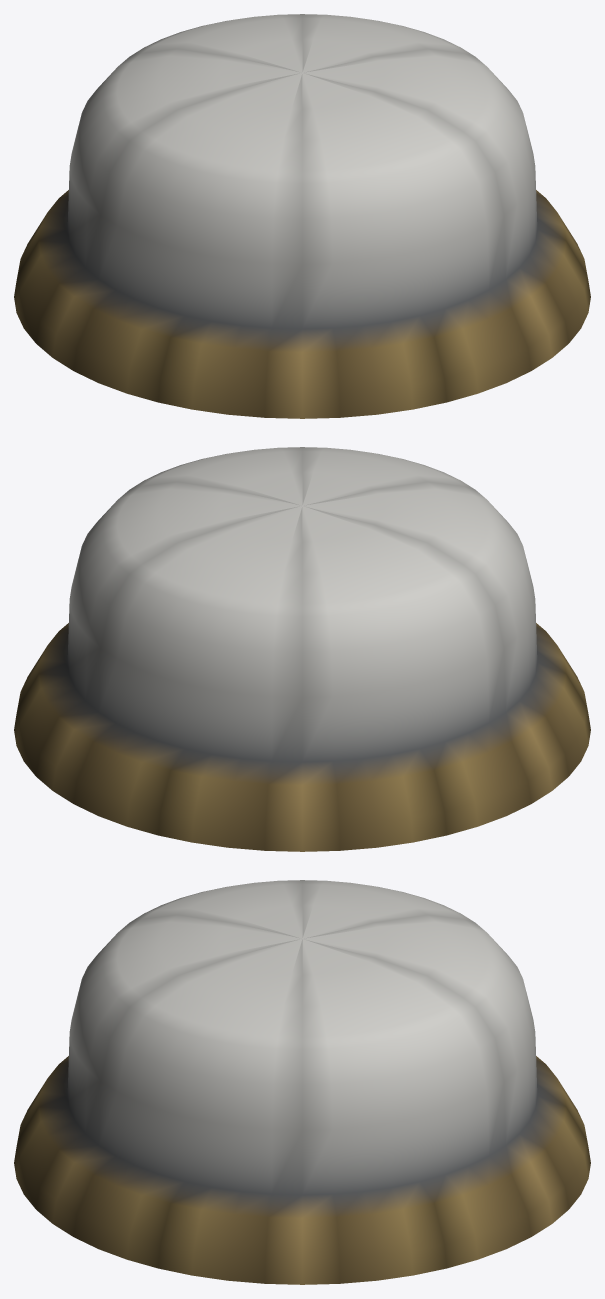
File: seis-shield.glb
3 views of the same model, one above another, from view 1: azimuth 30°, elevation 25°; view 2: azimuth 150°, elevation 25°; view 3: azimuth 270°, elevation 25° (orthographic).
Visible parts, largest first — view 1: cover-seis-shield; view 2: cover-seis-shield; view 3: cover-seis-shield.
Boxes of the visible parts, x1=… form: cover-seis-shield: x1=14, y1=14, x2=590, y2=418; cover-seis-shield: x1=14, y1=447, x2=590, y2=851; cover-seis-shield: x1=14, y1=880, x2=590, y2=1284.
Bounding box in the file's own units: 0.28 × 0.12 × 0.28.
